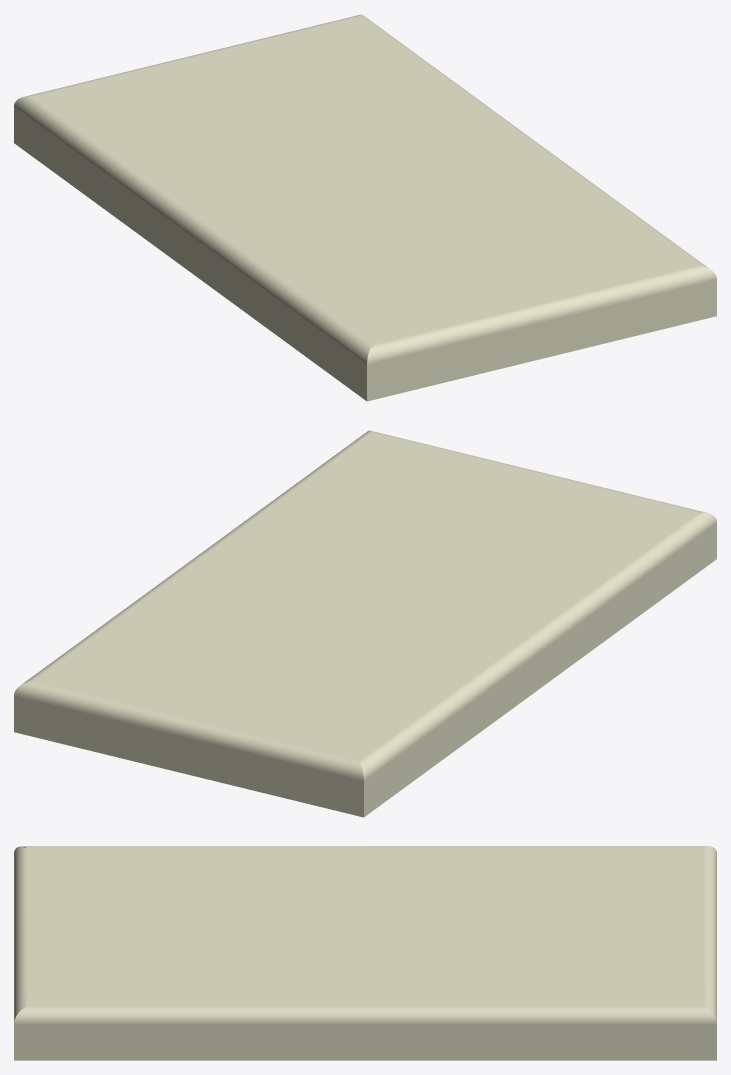
The model's file is original-4.obj.
3 renders of one model, top to bottom at view 1: azimuth 30°, elevation 25°; view 2: azimuth 150°, elevation 25°; view 3: azimuth 270°, elevation 25°, orthographic.
Parts seen in each view (by area): view 1: group_2/ID31#ID31; view 2: group_2/ID31#ID31; view 3: group_2/ID31#ID31.
Boxes of the visible parts, bbox=[...] form: group_2/ID31#ID31: bbox=[14, 14, 716, 401]; group_2/ID31#ID31: bbox=[14, 430, 716, 817]; group_2/ID31#ID31: bbox=[14, 846, 716, 1060].
Size of the model in its own units: 0.1052 by 0.014 by 0.1838.
